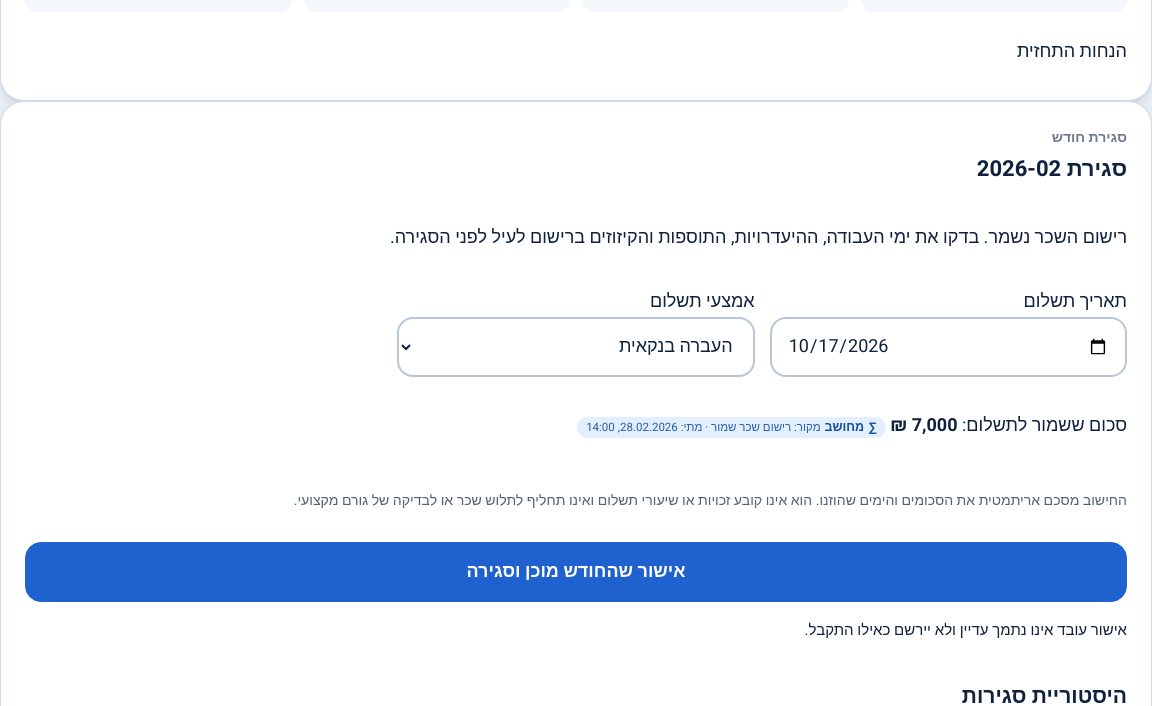
Test: PayrollIntelligence — canonical case resolution › reports a failed close, keeps the form intact, and re-enables the button
The width and height of the screenshot is (1152, 706).
(page scrolled)
Type "2026-03-15" into the date field labelled "תאריך תשלום" at [948, 347], box x1=770 y1=317 x2=1127 y2=377
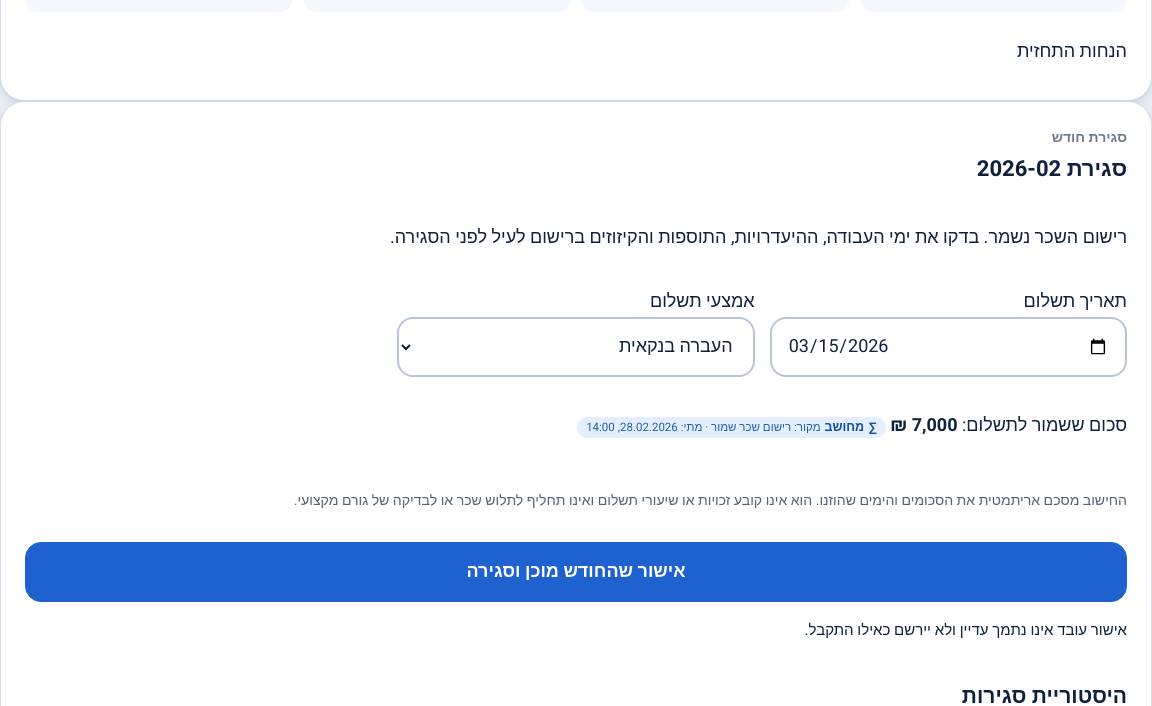
Click the button "אישור שהחודש מוכן וסגירה" at [576, 572], box x1=25 y1=542 x2=1127 y2=602
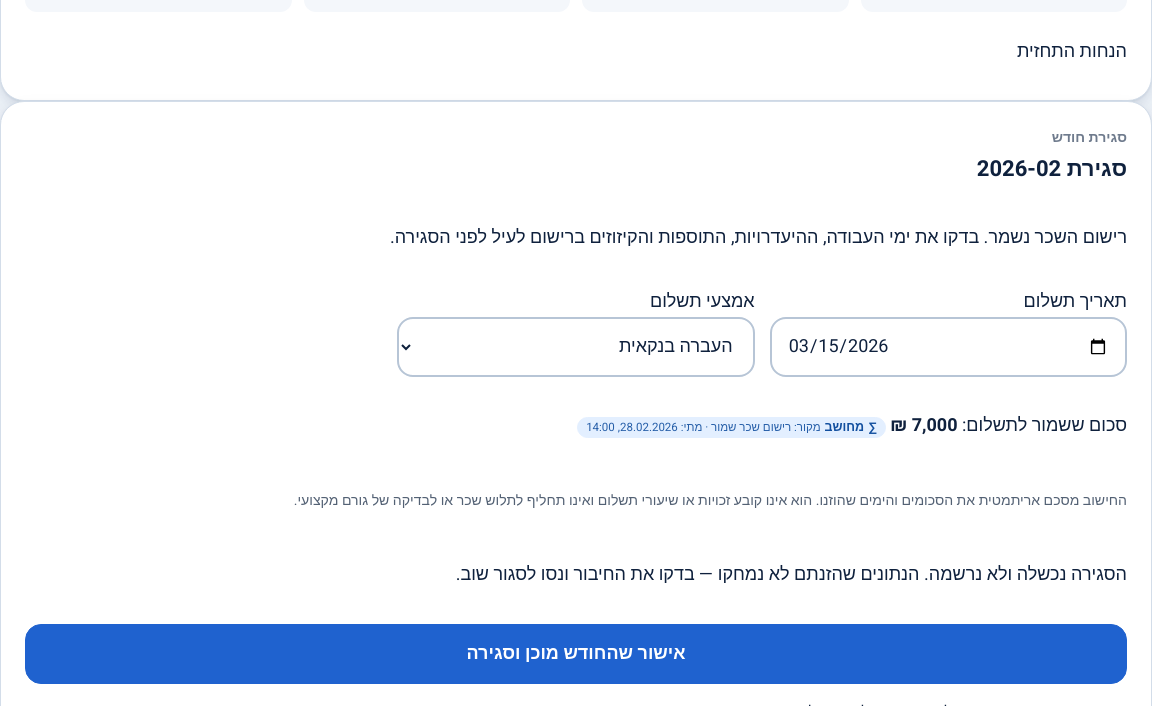
Expected: the button "אישור שהחודש מוכן וסגירה" is enabled, x1=25 y1=624 x2=1127 y2=684
Expected: the message is shown, x1=456 y1=561 x2=1127 y2=588
